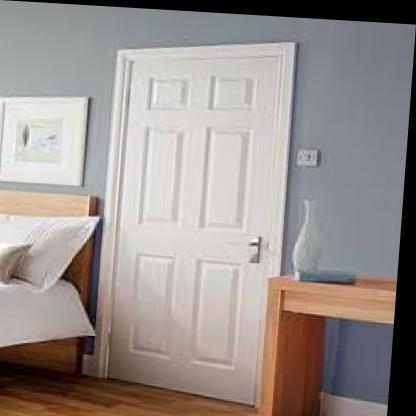door: (101, 53, 292, 393)
